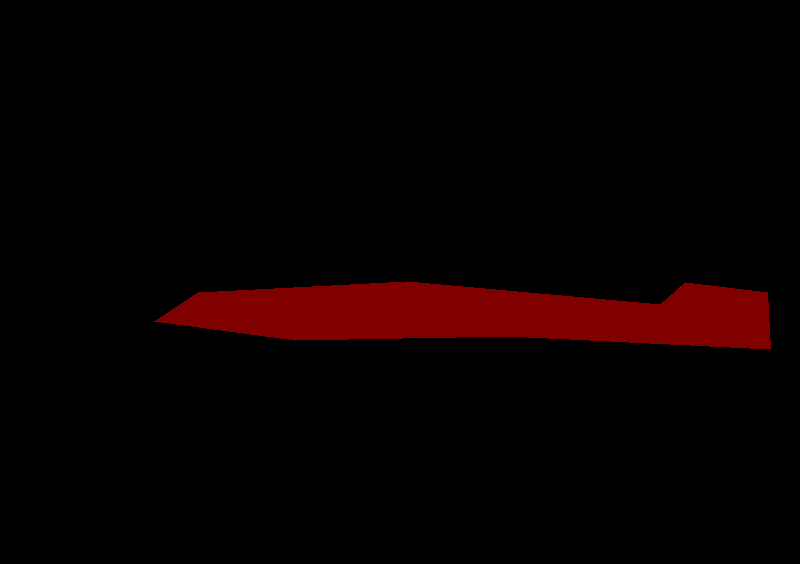fire: (154, 281, 770, 349)
